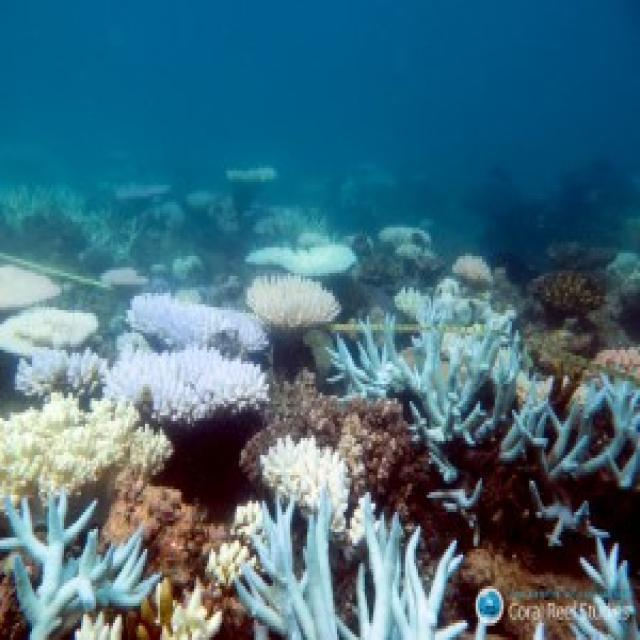Bleached: (319, 311, 640, 505), (1, 491, 157, 640), (15, 351, 271, 426), (2, 391, 171, 487), (129, 291, 270, 356), (262, 438, 352, 535), (248, 274, 347, 329), (1, 308, 101, 346), (1, 260, 65, 311), (205, 537, 260, 591), (161, 595, 223, 640), (75, 611, 124, 640), (457, 255, 495, 288), (607, 252, 640, 286)
Healthy: (469, 548, 597, 640)
